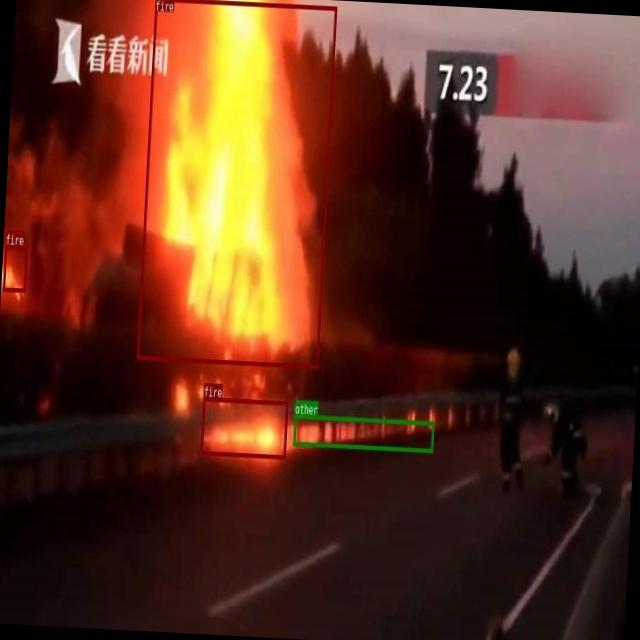fire: (136, 0, 336, 369), (201, 396, 289, 458), (2, 244, 28, 292)
